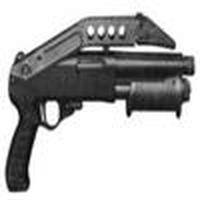gun: (5, 16, 195, 194)
